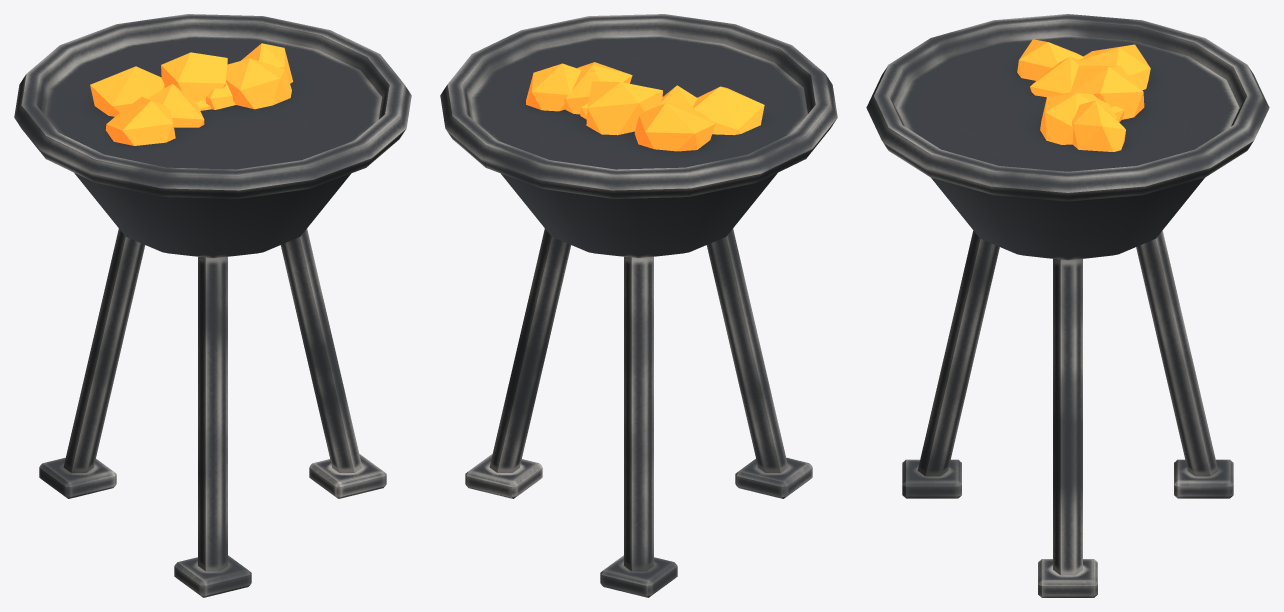
The model's file is gallows_brazier.glb.
3 renders of one model, left to right at view 1: azimuth 30°, elevation 25°; view 2: azimuth 150°, elevation 25°; view 3: azimuth 270°, elevation 25°, orthographic.
Parts seen in each view (by area): view 1: gallows_brazier, gallows_brazier_glow; view 2: gallows_brazier, gallows_brazier_glow; view 3: gallows_brazier, gallows_brazier_glow.
Boxes of the visible parts, x1,y1,x2,y2 form: gallows_brazier: (14, 14, 411, 597); gallows_brazier_glow: (90, 43, 292, 145); gallows_brazier: (440, 14, 837, 597); gallows_brazier_glow: (526, 62, 764, 151); gallows_brazier: (866, 14, 1269, 597); gallows_brazier_glow: (1017, 39, 1150, 151).
Bounding box in the file's own units: 1.08 × 1.34 × 1.08.
2 materials, 1 textured.
